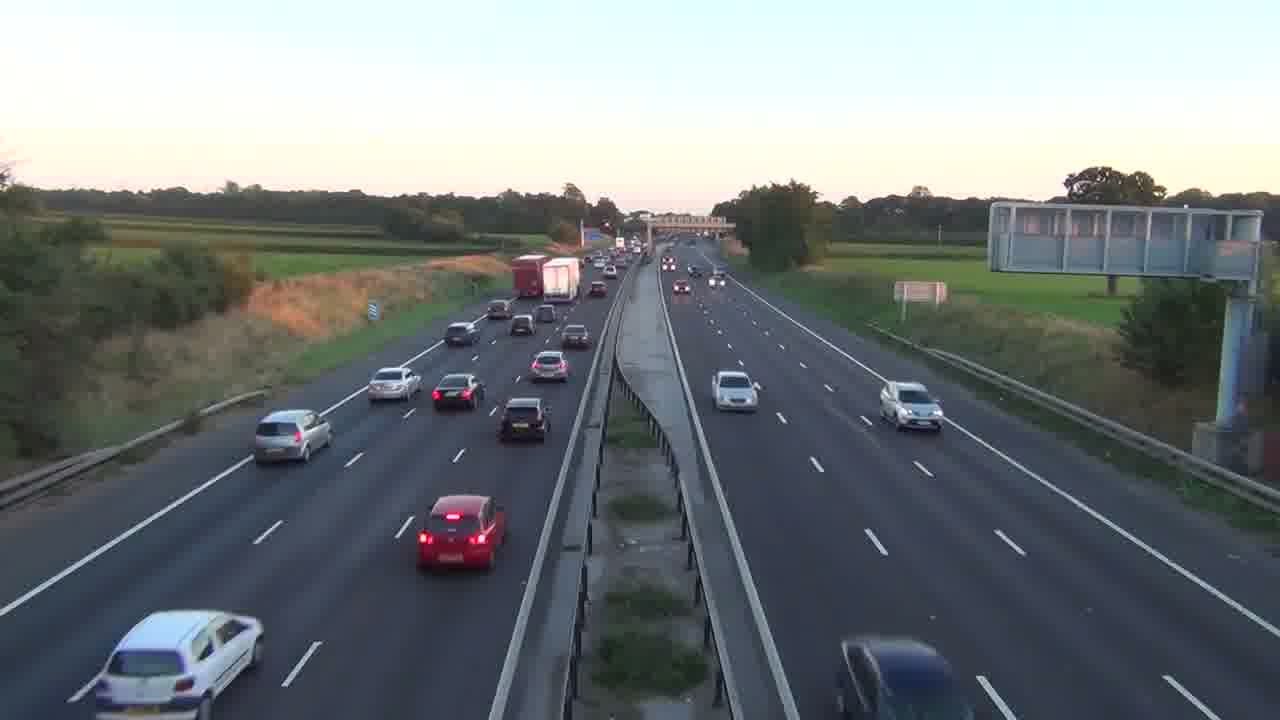car: (91, 608, 265, 717), (415, 494, 509, 572), (253, 409, 335, 464), (879, 381, 943, 431), (495, 396, 550, 443), (711, 369, 761, 414), (367, 366, 423, 403), (431, 372, 484, 411), (528, 350, 571, 383), (559, 323, 593, 350), (510, 313, 535, 335)
